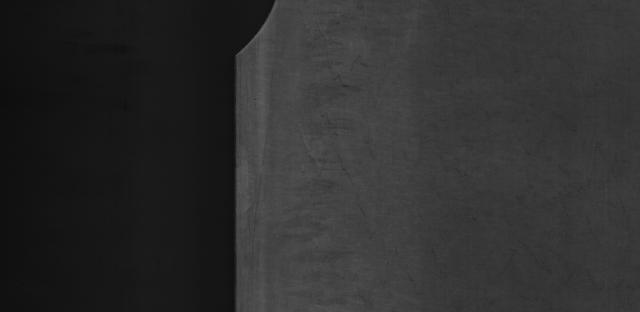crescent_gap: (220, 0, 310, 73)
